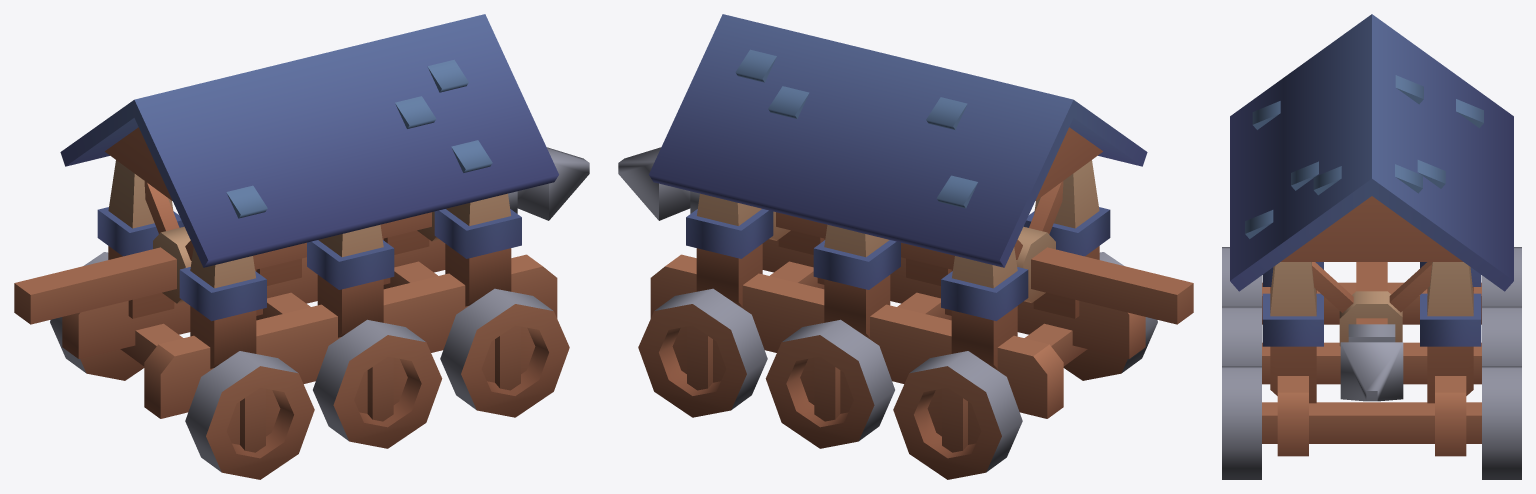
The model's file is siege-ram.glb.
3 renders of one model, left to right at view 1: azimuth 30°, elevation 25°; view 2: azimuth 150°, elevation 25°; view 3: azimuth 270°, elevation 25°, orthographic. The views are drawn at different scales.
Parts seen in each view (by area): view 1: siege-ram; view 2: siege-ram; view 3: siege-ram.
Part boxes in pixels (x1,y1,x2,y2): siege-ram: (14, 14, 589, 479); siege-ram: (618, 14, 1193, 479); siege-ram: (1222, 14, 1521, 479).
Size of the model in its own units: 3.88 by 2.2 by 1.86.
